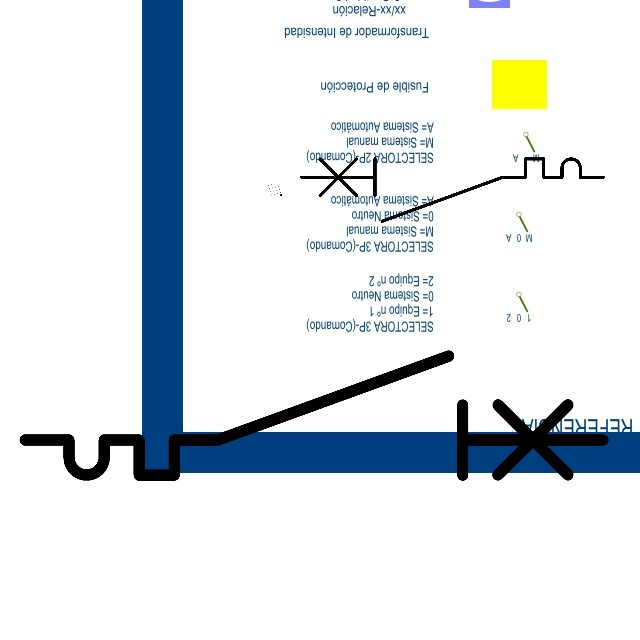interruptor_termomagnetico: (10, 341, 618, 490), (293, 151, 610, 228)
